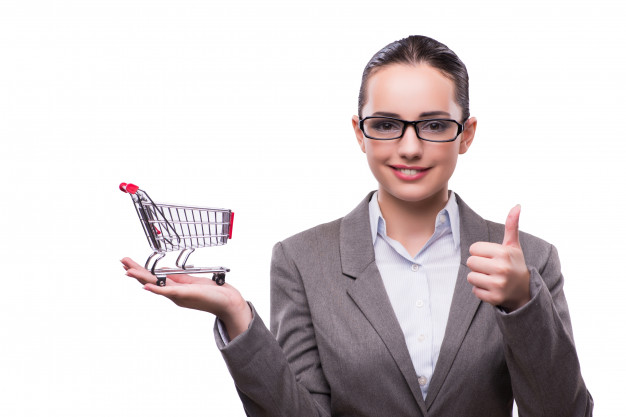thumbsup: (466, 203, 522, 305)
